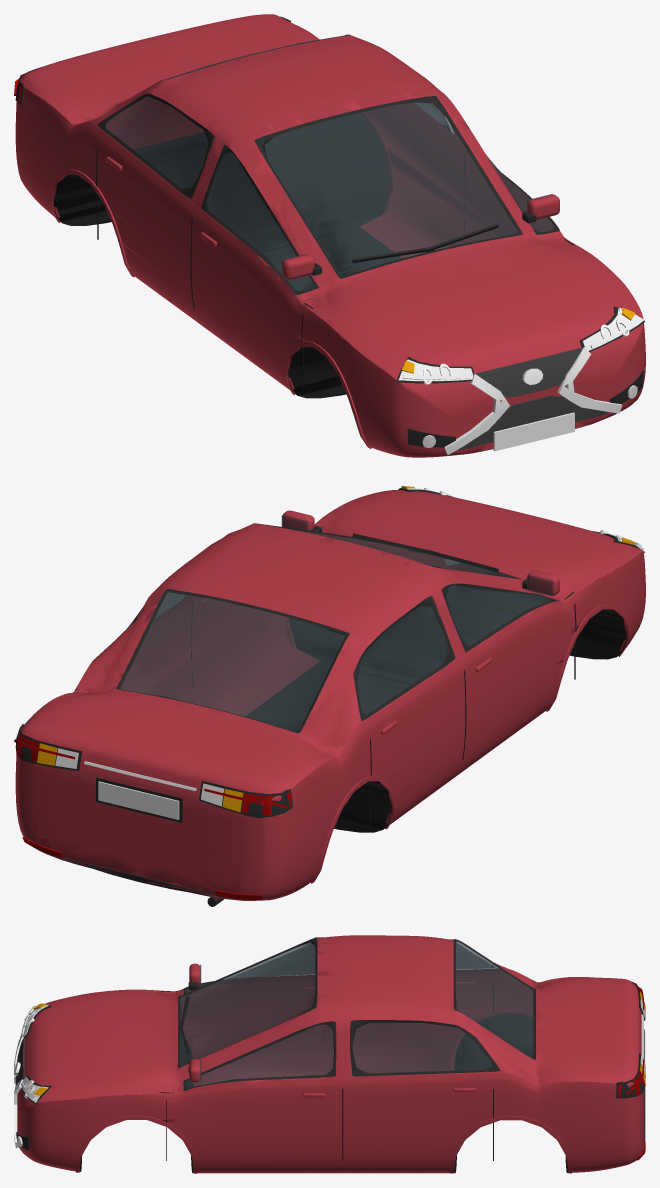
Rendered from vesta.glb.
3 views of the same model, one above another, from view 1: azimuth 30°, elevation 25°; view 2: azimuth 150°, elevation 25°; view 3: azimuth 270°, elevation 25° (orthographic). The views are drawn at different scales.
Visible parts, largest first — view 1: LOD_hi, LOD0; view 2: LOD_hi, LOD0; view 3: LOD_hi, LOD0.
Part boxes in pixels (x1,y1,x2,y2): LOD_hi: (14,14,645,457); LOD0: (14,19,643,454); LOD_hi: (14,486,645,906); LOD0: (15,487,644,904); LOD_hi: (14,935,645,1173); LOD0: (14,936,645,1172).
Size of what is drawn, in the model's own units: 1.8 by 1.29 by 4.45.
